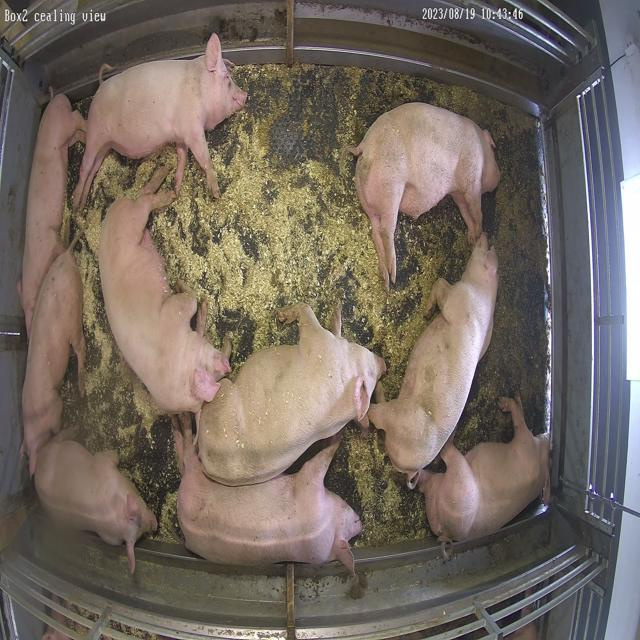Dirt: (223, 65, 548, 450), (65, 378, 177, 541), (347, 428, 430, 548)
Pig: (197, 304, 386, 486), (98, 169, 231, 414), (370, 234, 499, 482), (73, 33, 247, 208), (175, 420, 362, 570), (353, 102, 502, 286), (415, 396, 551, 542), (34, 431, 156, 574), (19, 86, 85, 334), (22, 233, 84, 472)
